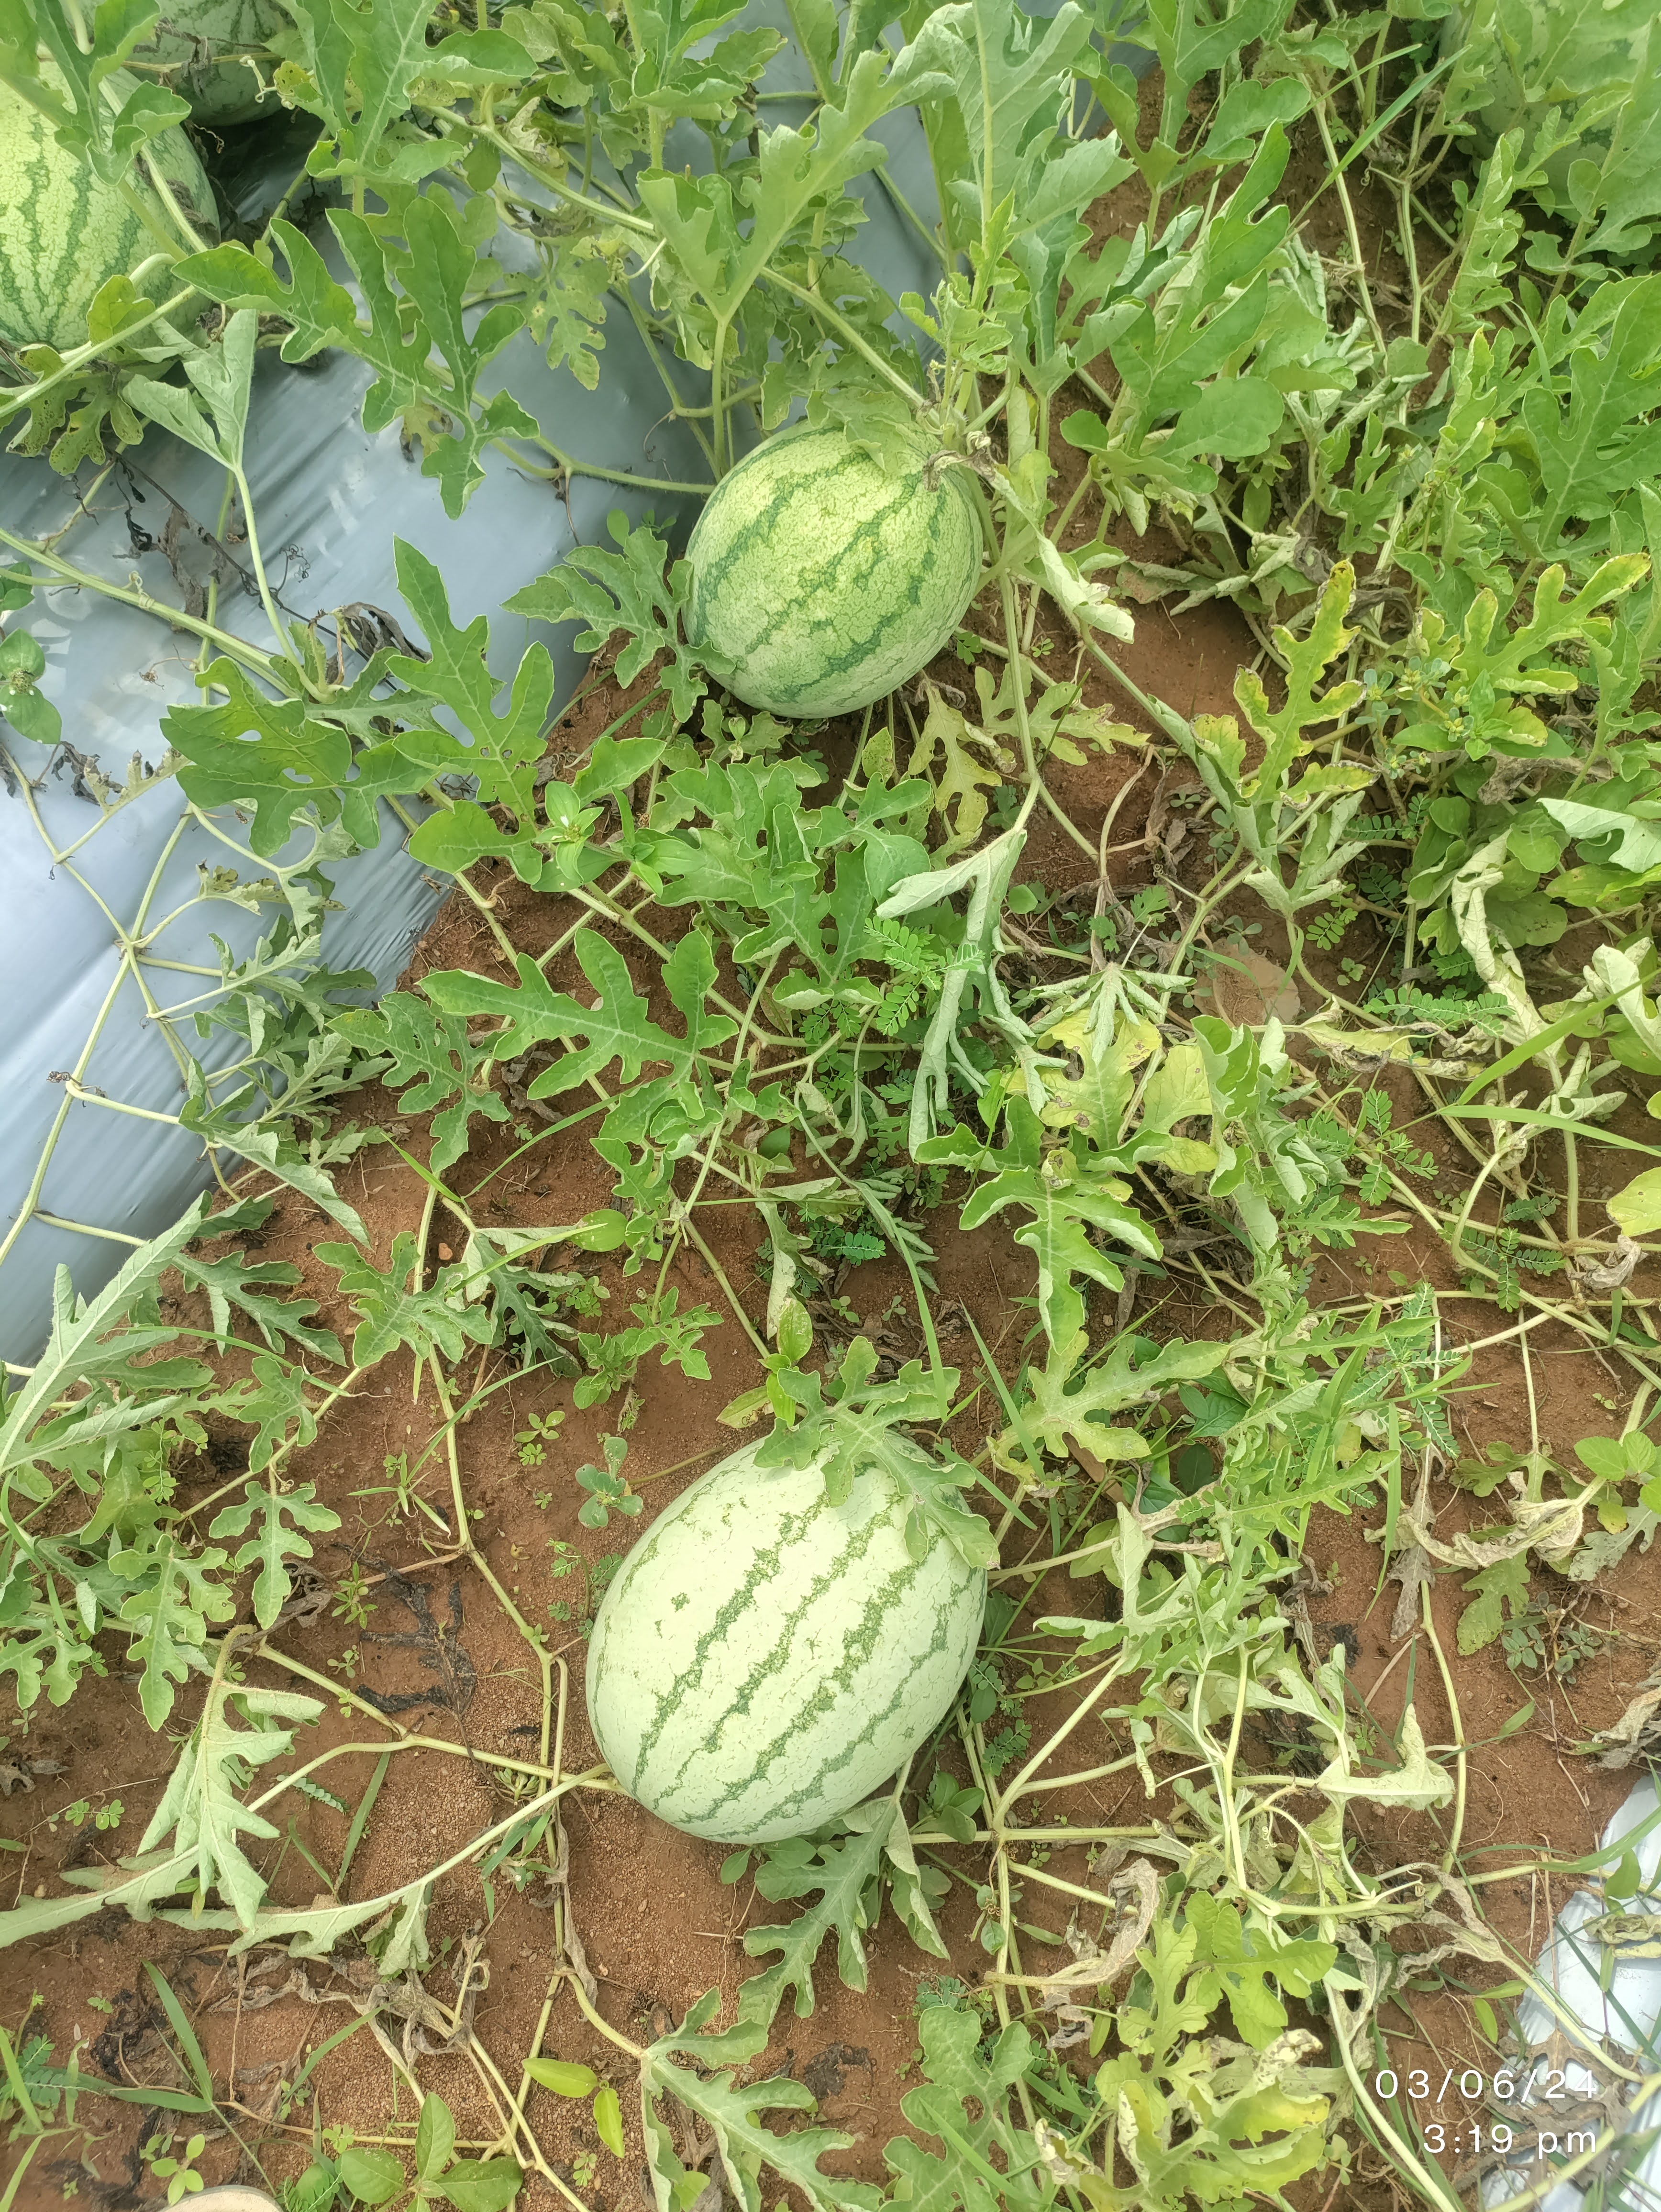good-to-harvest: (535, 1379, 1138, 1848)
not-good-to-harvest: (539, 336, 1134, 756)
